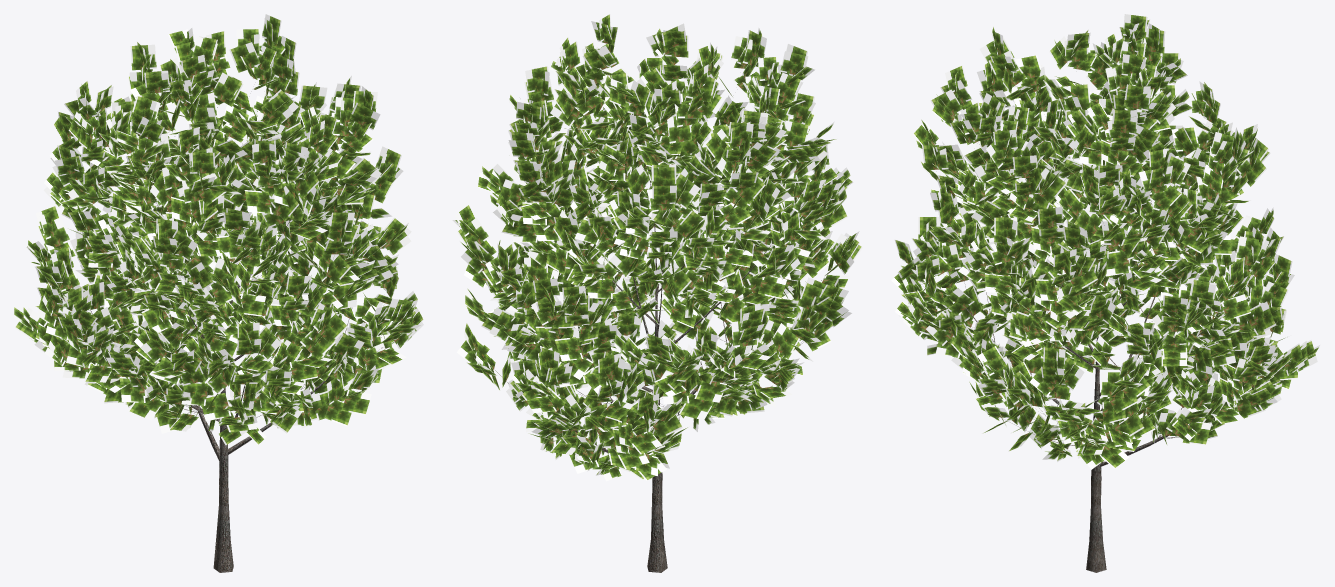
File: tree3.glb
3 views of the same model, side by side, from view 1: azimuth 30°, elevation 25°; view 2: azimuth 150°, elevation 25°; view 3: azimuth 270°, elevation 25° (orthographic).
Visible parts, largest first — view 1: Material2.350, Material2.1069, Material2.1017, Material2.840, Material2.1736, Material2.1552, Material2.1881, Material2.870; view 2: Material2.350, Material2.1849, Material2.1235, Material2.1998, Material2.1217; view 3: Material2.350, Material2.1727.
Part boxes in pixels (x1=…): Material2.350: x1=213, y1=305, x2=233, y2=572; Material2.1069: x1=212, y1=72, x2=243, y2=106; Material2.1017: x1=229, y1=42, x2=260, y2=72; Material2.840: x1=201, y1=393, x2=231, y2=421; Material2.1736: x1=244, y1=190, x2=271, y2=213; Material2.1552: x1=341, y1=389, x2=371, y2=415; Material2.1881: x1=299, y1=85, x2=327, y2=110; Material2.870: x1=237, y1=293, x2=265, y2=316; Material2.350: x1=647, y1=286, x2=667, y2=572; Material2.1849: x1=658, y1=262, x2=691, y2=300; Material2.1235: x1=772, y1=323, x2=799, y2=359; Material2.1998: x1=679, y1=394, x2=714, y2=420; Material2.1217: x1=781, y1=120, x2=809, y2=146; Material2.350: x1=1086, y1=336, x2=1106, y2=572; Material2.1727: x1=1103, y1=250, x2=1130, y2=276.
Size of the model in its own units: 239 by 325 by 242.
2 materials, 2 textured.
